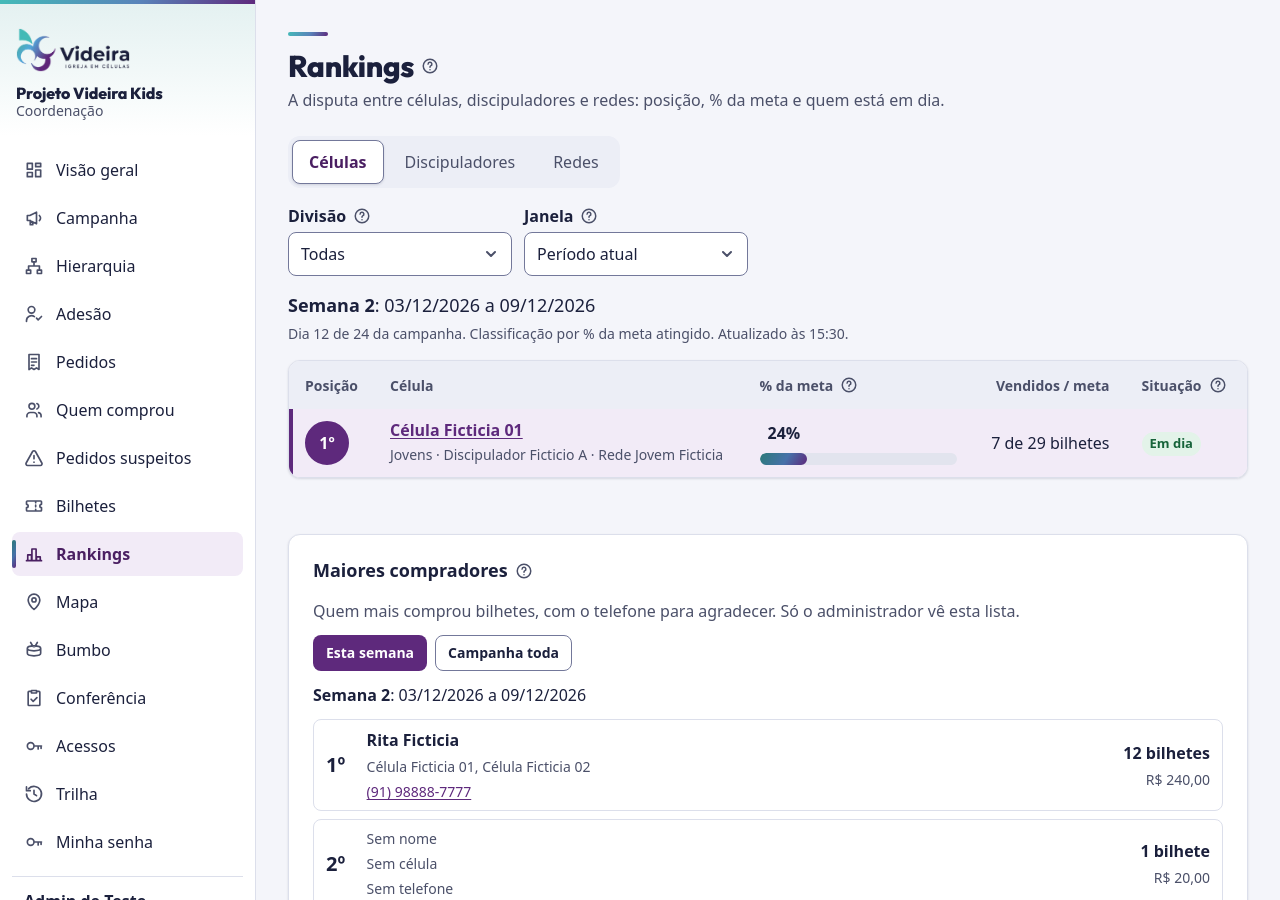
Test: RIFA-083: maiores compradores nos Rankings (só o admin) › a troca de janela: 'Campanha toda' pede a campanha e mostra a lista dela
Click the button "Campanha toda": (504, 653) [435,635,572,671]
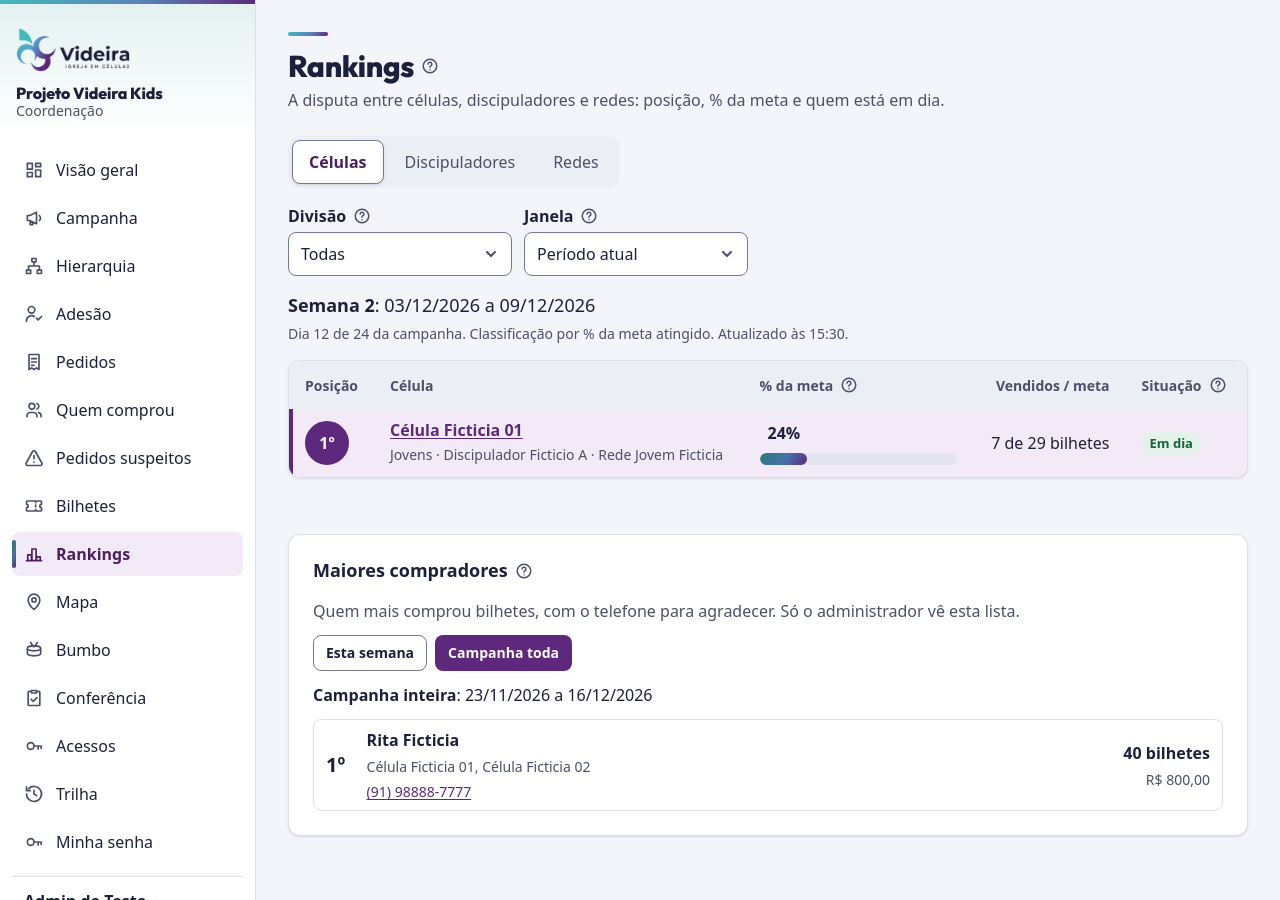
Expected: the element "Maiores compradores" shows "Campanha inteira: 23/11/2026 a 16/12/2026", [288,534,1248,836]
